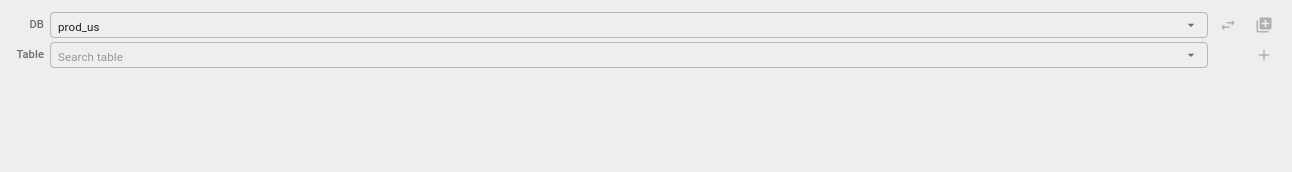
Test: TableAddPicker — add-from-all-connected action › includes the staged database when it is not connected yet
Press the mouse on the dropdown with placeholder "Database": (620, 25) [58,12,1182,38]
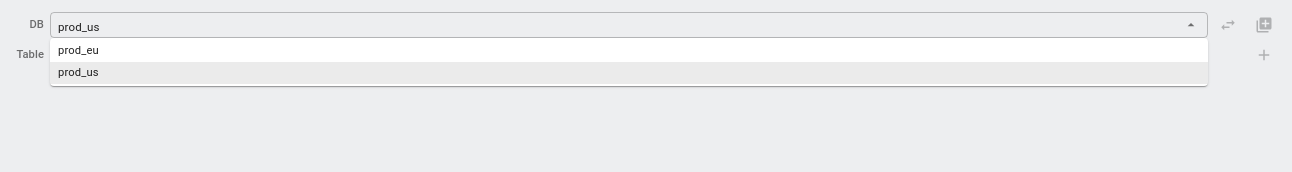
Click the option "prod_eu": (78, 50) [58,44,99,57]
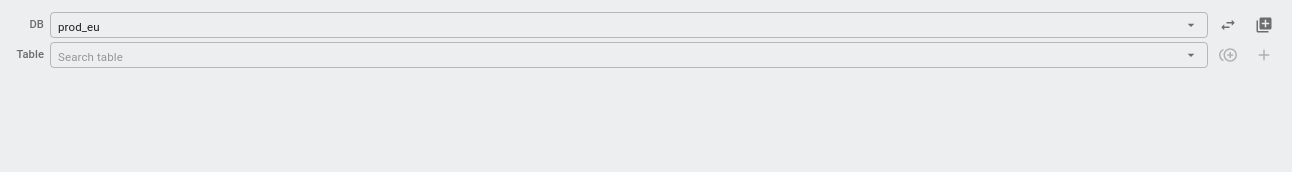
Press the mouse on the dropdown with placeholder "Search table": (620, 55) [58,42,1182,68]
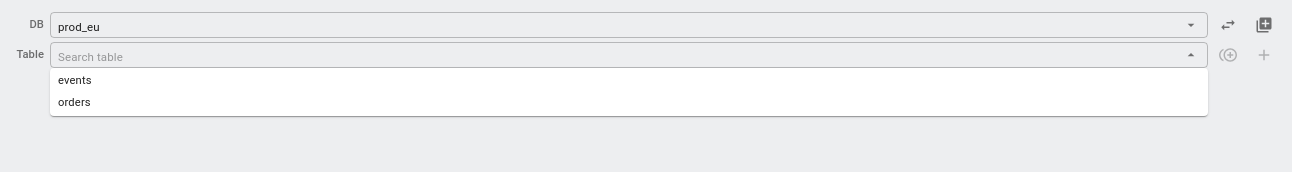
Click the option "events": (75, 80) [58,74,92,87]
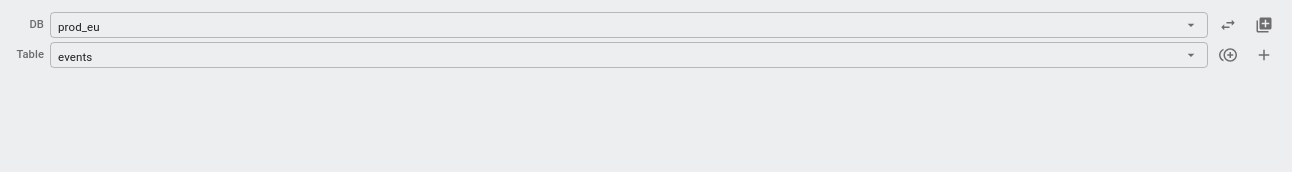
Now the button named "Add table from all connected databases" is enabled, box [1215,42,1241,68]
